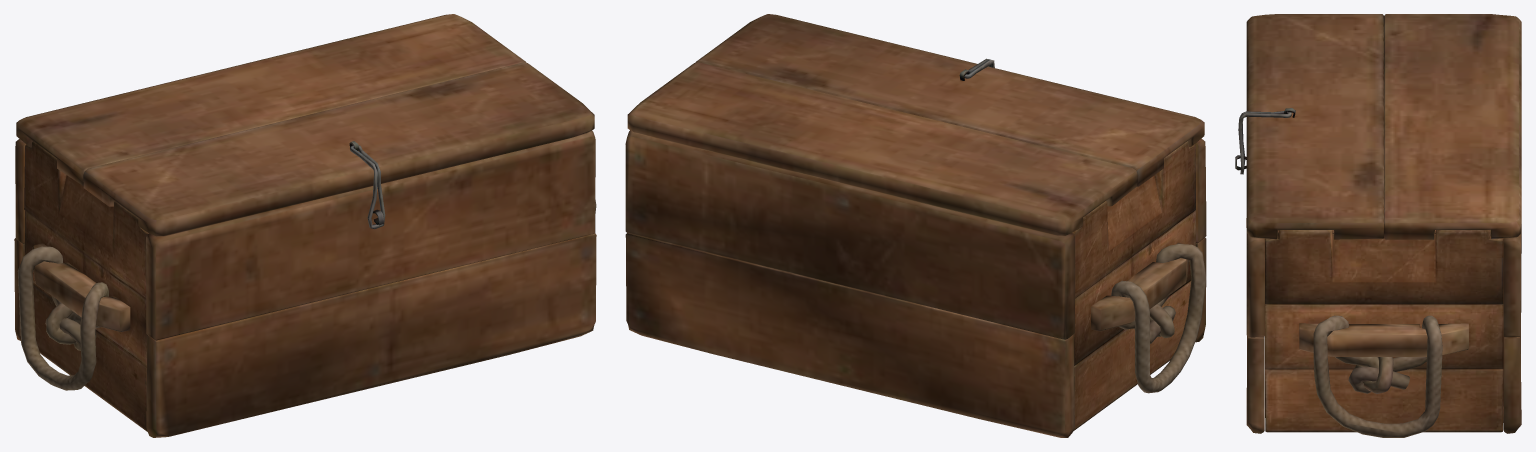
File: wooden_crate.glb
3 views of the same model, side by side, from view 1: azimuth 30°, elevation 25°; view 2: azimuth 150°, elevation 25°; view 3: azimuth 270°, elevation 25° (orthographic). The views are drawn at different scales.
Visible parts, largest first — view 1: wooden_crate_01_lid; view 2: wooden_crate_01_lid; view 3: wooden_crate_01_lid.
Part boxes in pixels (x1,y1,x2,y2): wooden_crate_01_lid: [14, 14, 596, 437]; wooden_crate_01_lid: [625, 14, 1206, 437]; wooden_crate_01_lid: [1235, 14, 1521, 437].
Size of the model in its own units: 0.8245 by 0.3495 by 0.4071.
Materials: 1 (1 with a texture image).
